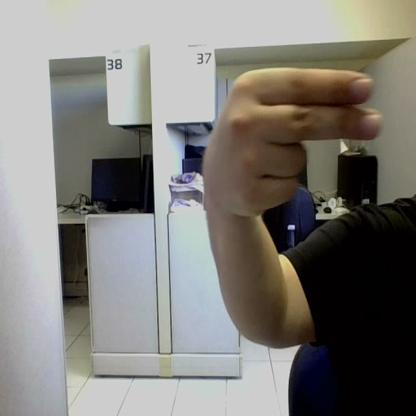H: (214, 68, 381, 217)
